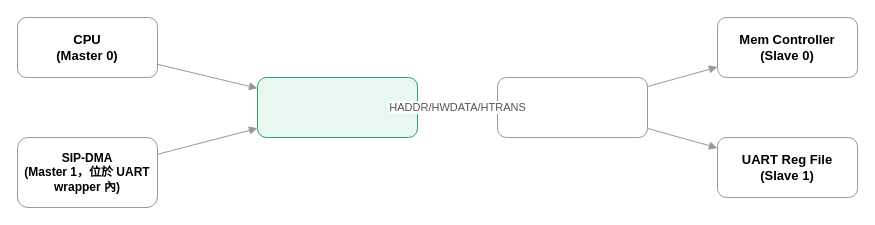
Some shapes in this 875 by 225 pixel diagram are drawn without their labels. The shapes that lost their labels are listed below. From the top down, each one's centre as x and y in pixels, then its label:
[337,107]: Arbiter + Address Mux (HMASTER 選擇)
[572,107]: Address Decoder
